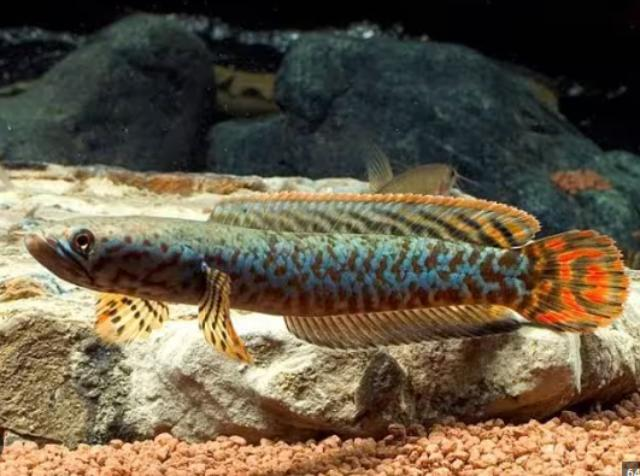Mulut: (6, 213, 108, 300)
Sirip Anal: (277, 298, 537, 362)
Sirip Dada: (180, 253, 264, 383), (80, 285, 182, 357)
Sirip Ekor: (500, 222, 638, 344)
Sirip Punggung: (200, 178, 542, 252)
